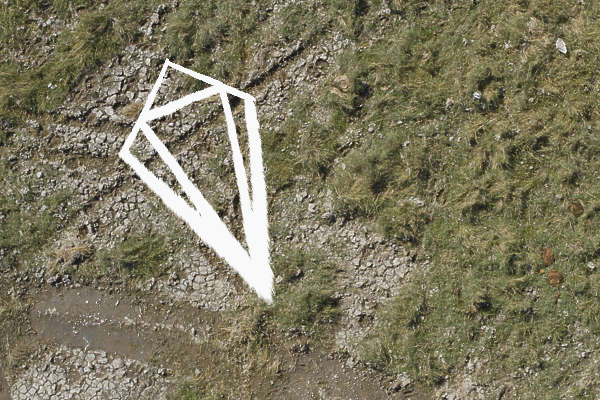marker: (111, 53, 284, 320)
